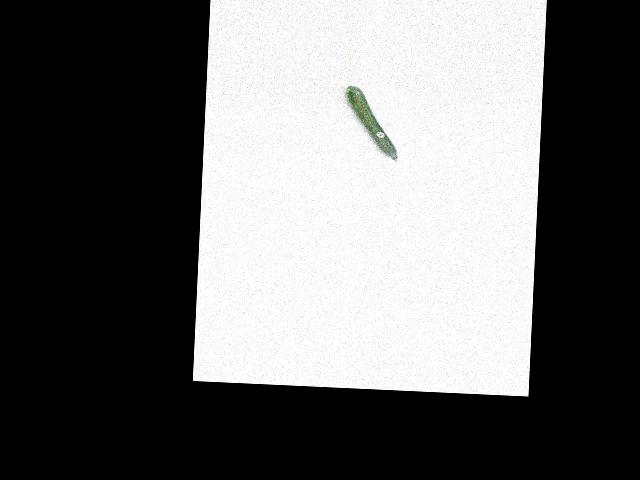cucumber: (343, 86, 400, 161)
